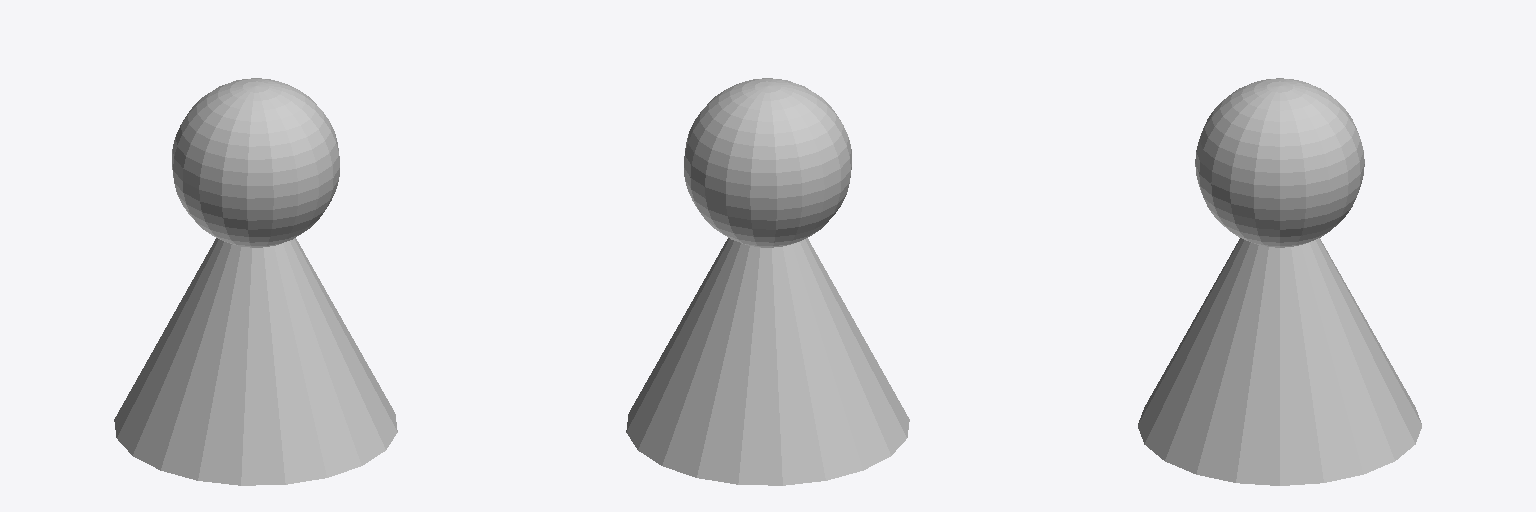
Rendered from dm-Fee.obj.
The picture shows the model from 3 angles: view 1: azimuth 30°, elevation 25°; view 2: azimuth 150°, elevation 25°; view 3: azimuth 270°, elevation 25°; orthographic projection.
Visible parts, largest first — view 1: pCone1 group1, group1 pSphere1; view 2: pCone1 group1, group1 pSphere1; view 3: pCone1 group1, group1 pSphere1.
Boxes of the visible parts, x1=… form: pCone1 group1: x1=114, y1=238, x2=397, y2=485; group1 pSphere1: x1=172, y1=78, x2=339, y2=247; pCone1 group1: x1=626, y1=238, x2=909, y2=485; group1 pSphere1: x1=684, y1=78, x2=851, y2=247; pCone1 group1: x1=1138, y1=238, x2=1421, y2=485; group1 pSphere1: x1=1195, y1=78, x2=1364, y2=247.
Bounding box in the file's own units: 3.67 × 4.82 × 3.67.